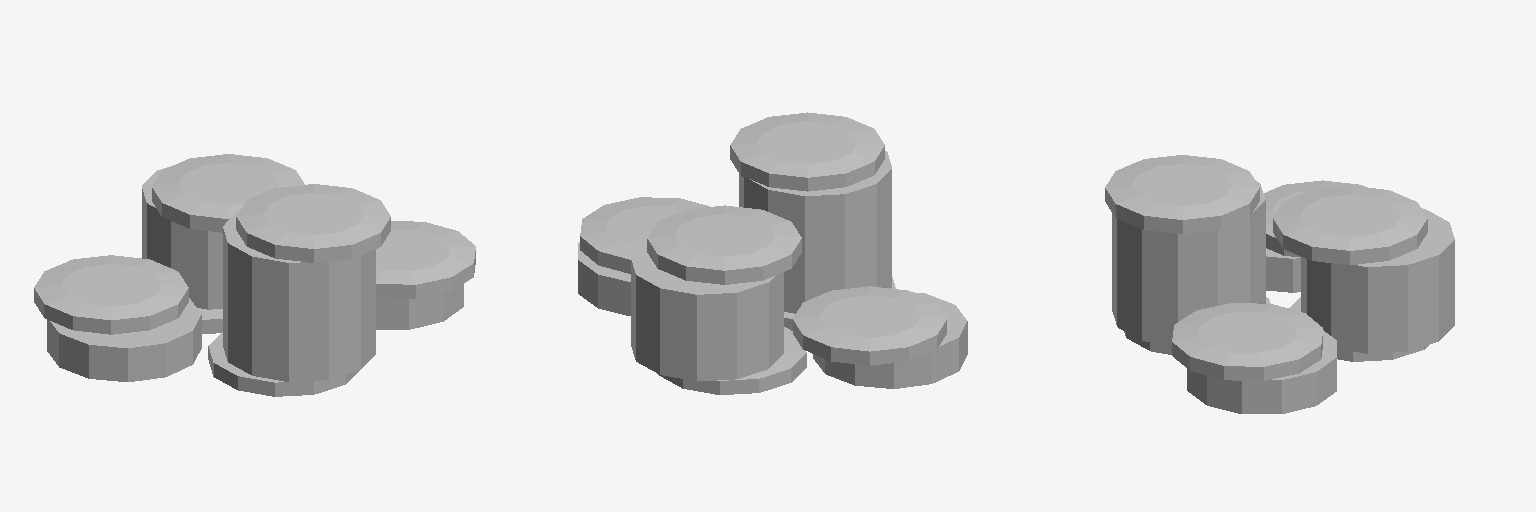
File: Coin_Pile.obj
3 renders of one model, left to right at view 1: azimuth 30°, elevation 25°; view 2: azimuth 150°, elevation 25°; view 3: azimuth 270°, elevation 25°, orthographic.
Parts seen in each view (by area): view 1: Coin_Pile_Cylinder.079; view 2: Coin_Pile_Cylinder.079; view 3: Coin_Pile_Cylinder.079.
Part boxes in pixels (x1,y1,x2,y2): Coin_Pile_Cylinder.079: (34, 154, 475, 396); Coin_Pile_Cylinder.079: (578, 112, 967, 394); Coin_Pile_Cylinder.079: (1105, 155, 1454, 413).
Bounding box in the file's own units: 0.1975 × 0.0735 × 0.1542.